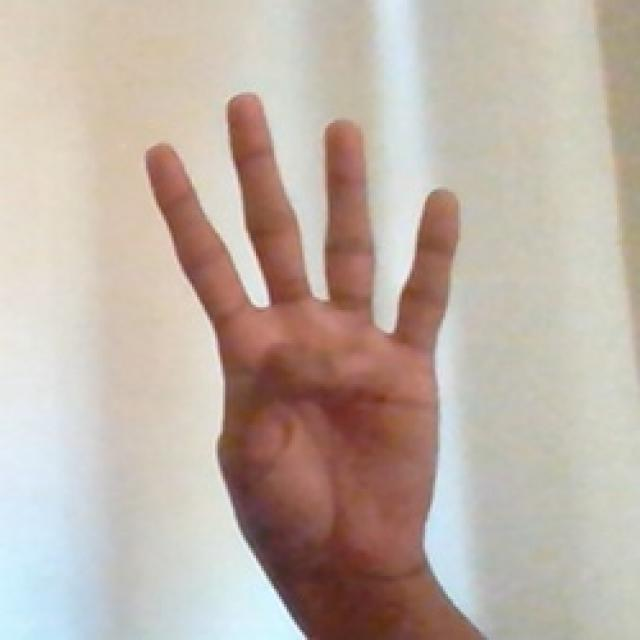Numeric-4: (144, 88, 470, 580)
